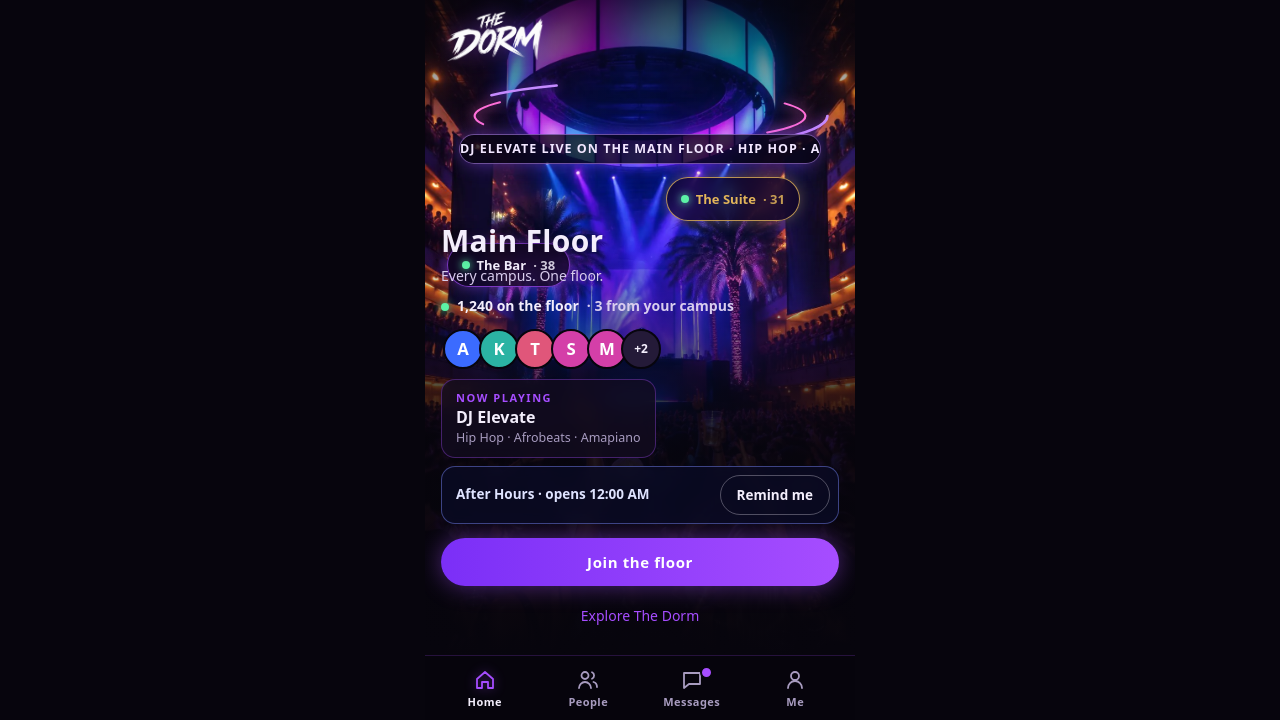
it: "from your campus" counts people on the floor who share your campus, and hides at 0
What coordinates should you click on to do the following:
click the button "K"
I would click on:
 (499, 349)
Its box is top-left (477, 327), bottom-right (521, 371).
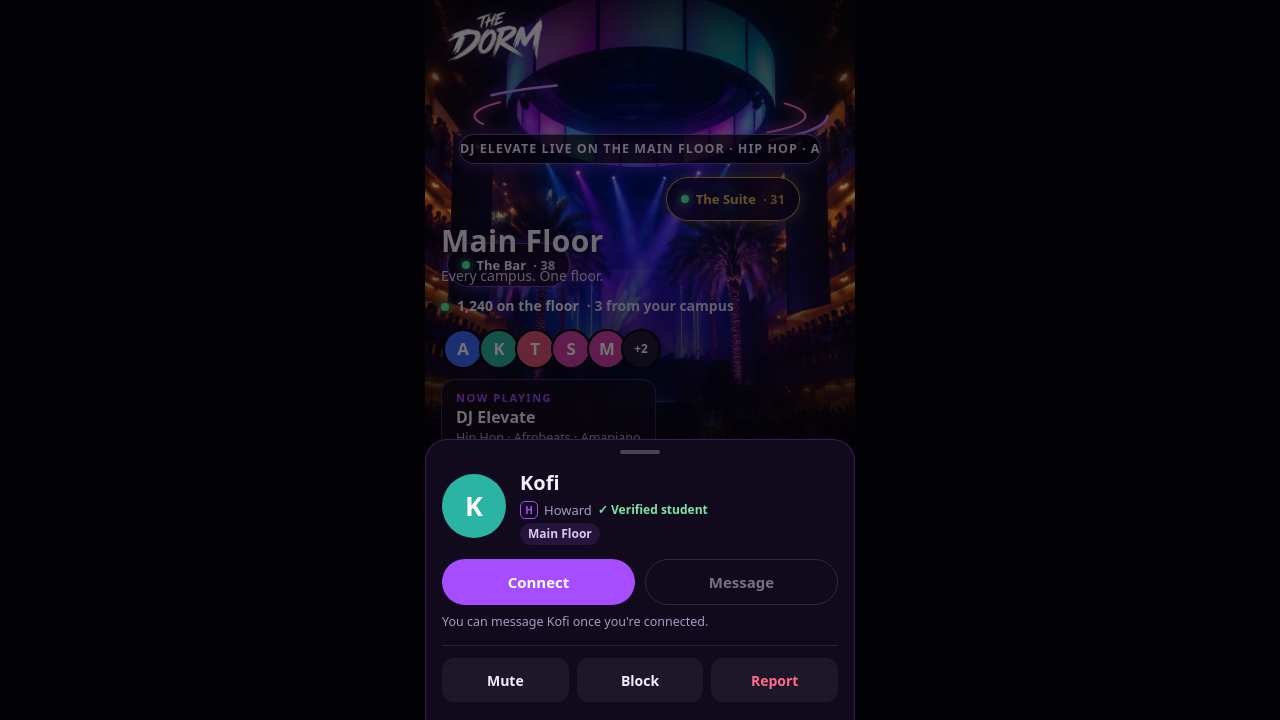
What coordinates should you click on to do the following:
click the button "Block"
I would click on:
 (640, 680)
Its box is top-left (577, 658), bottom-right (703, 702).
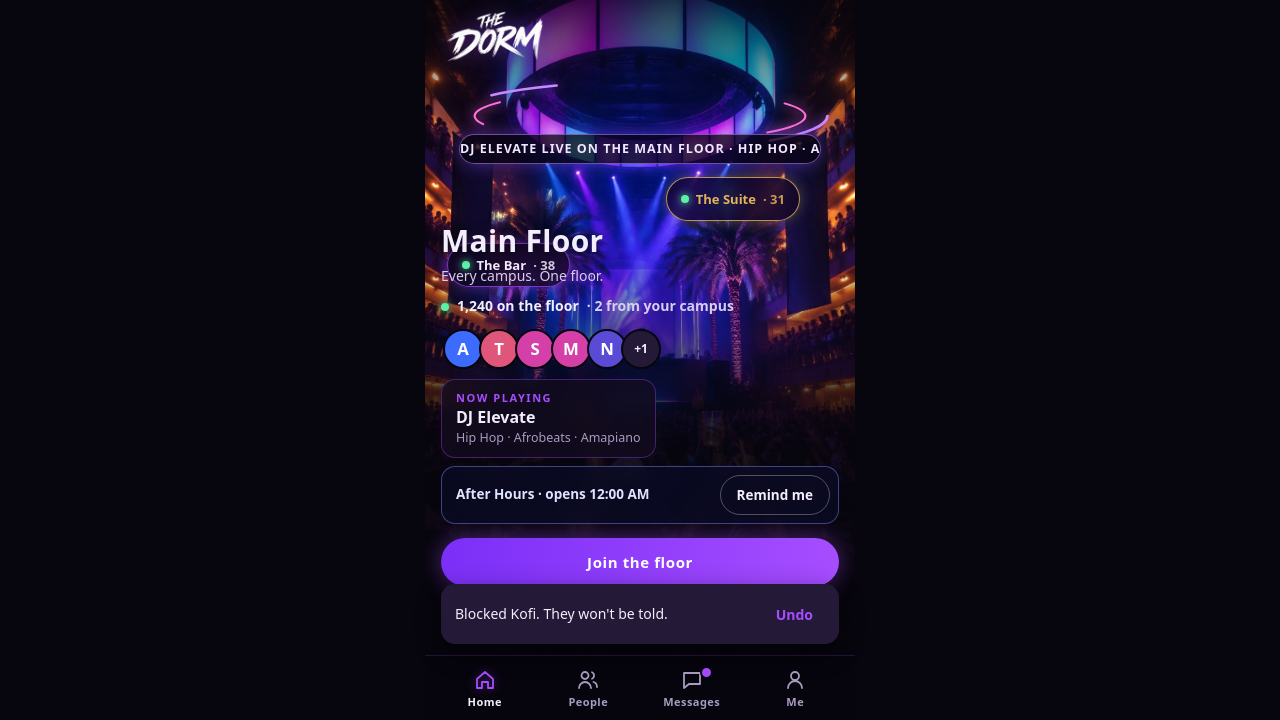
Expected: the element with class "crowd" shows "· 2 from your campus", top-left (441, 296), bottom-right (734, 317)
